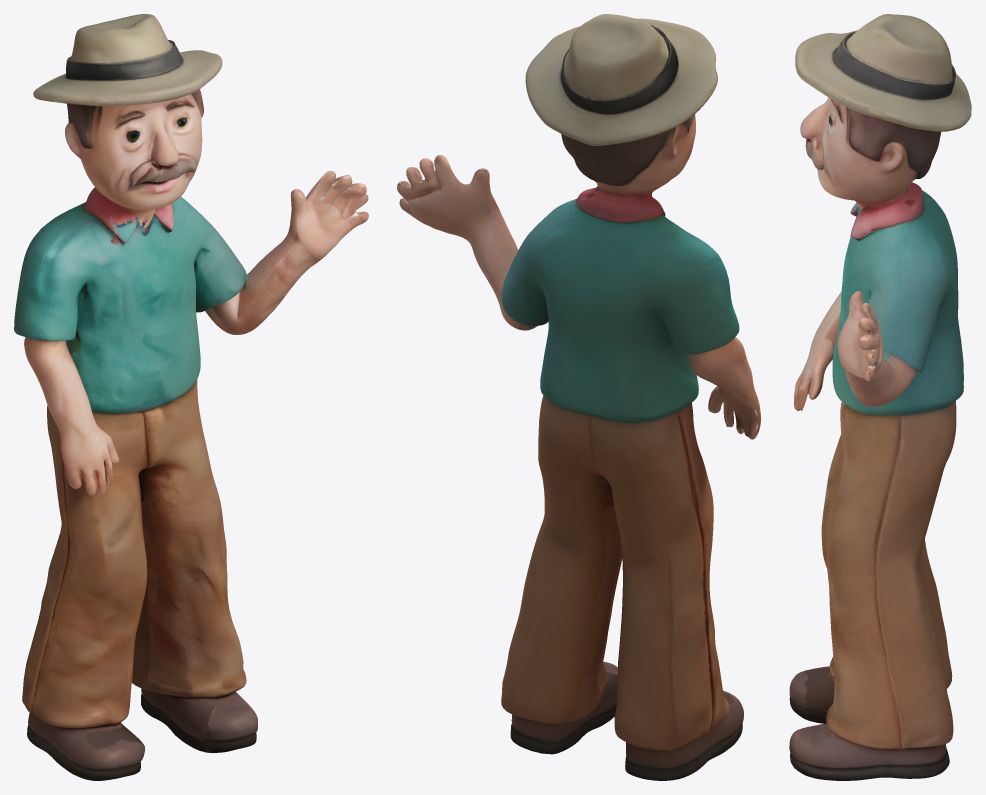
Rendered from sEÑORc52.glb.
The picture shows the model from 3 angles, left to right: view 1: azimuth 30°, elevation 25°; view 2: azimuth 150°, elevation 25°; view 3: azimuth 270°, elevation 25°; orthographic projection.
Visible parts, largest first — view 1: model; view 2: model; view 3: model.
Part boxes in pixels (left/top/right/bottom): model: left=14, top=14, right=368, bottom=780; model: left=397, top=14, right=760, bottom=780; model: left=789, top=14, right=971, bottom=780.
Size of the model in its own units: 0.9472 by 1.9 by 0.4392.
1 material, 1 textured.
